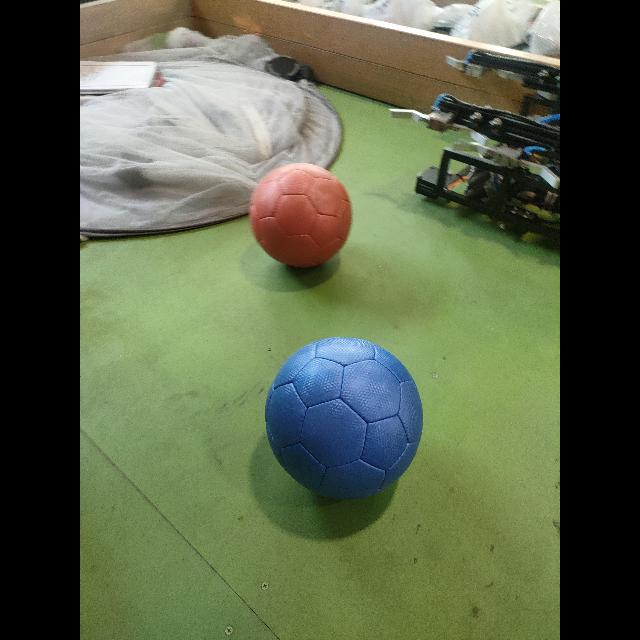B: (264, 338, 424, 503)
R: (249, 163, 353, 271)
